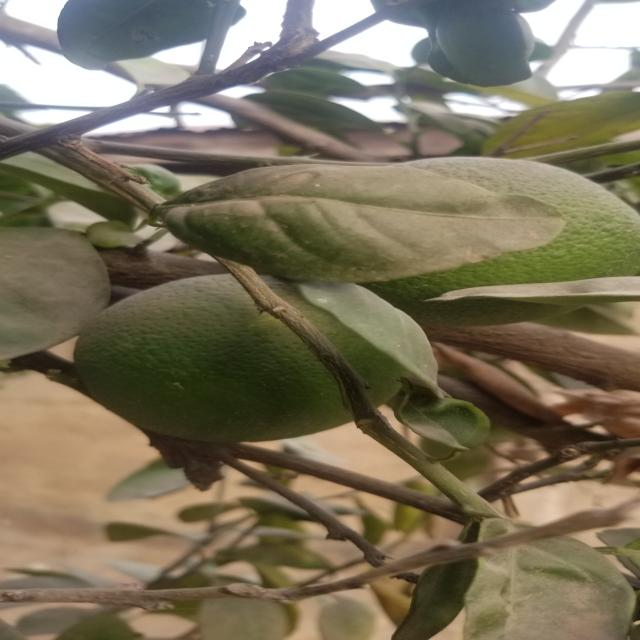Unripe: (85, 273, 424, 440), (297, 153, 640, 314)
